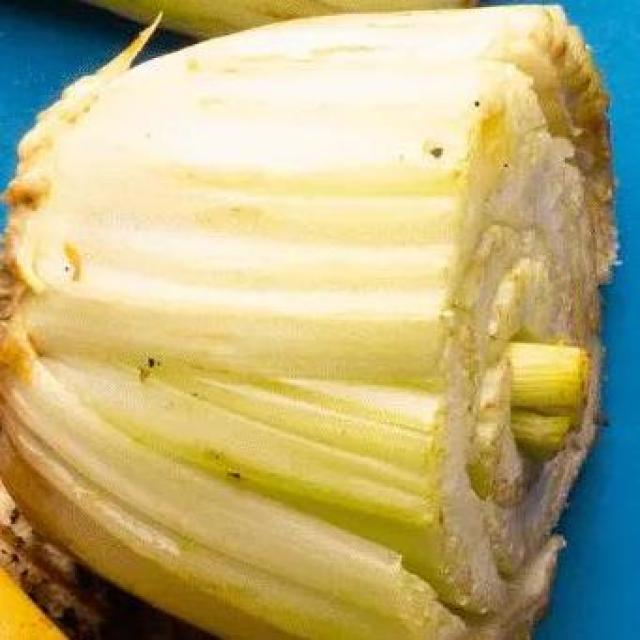food waste: (0, 0, 640, 635)
